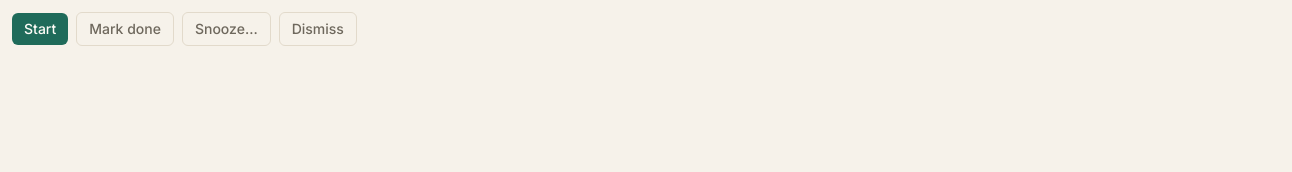
Test: SnoozeForm in the status controls › leaves Escape in the date field to the browser's picker; Escape elsewhere cancels
Click the button "Snooze…": x=226, y=29 x1=182 y1=12 x2=271 y2=46
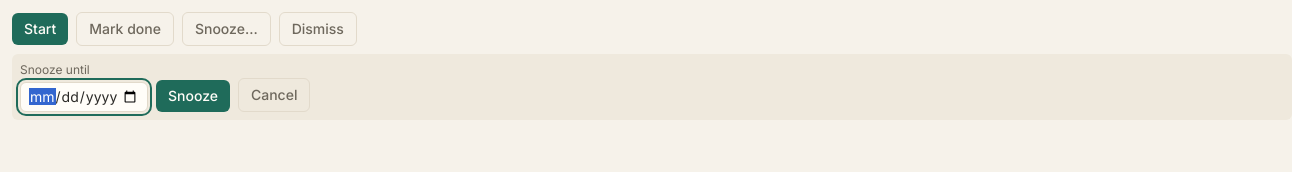
Press Escape in the date field labelled "Snooze until", box x1=20 y1=82 x2=148 y2=112
Check: the date field labelled "Snooze until" is shown, box x1=20 y1=82 x2=148 y2=112
Press Escape in the button "Snooze", box x1=156 y1=80 x2=230 y2=112
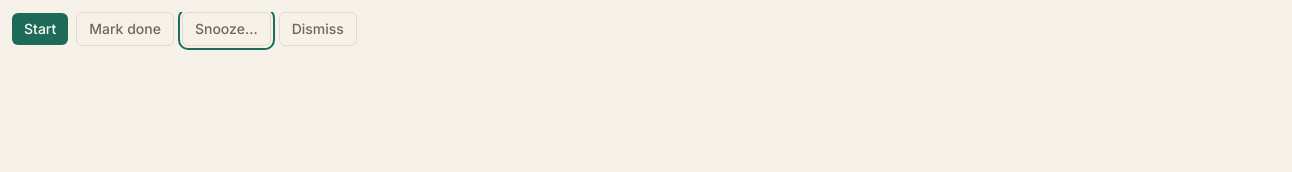
Check: the label labelled "Snooze until" is gone
